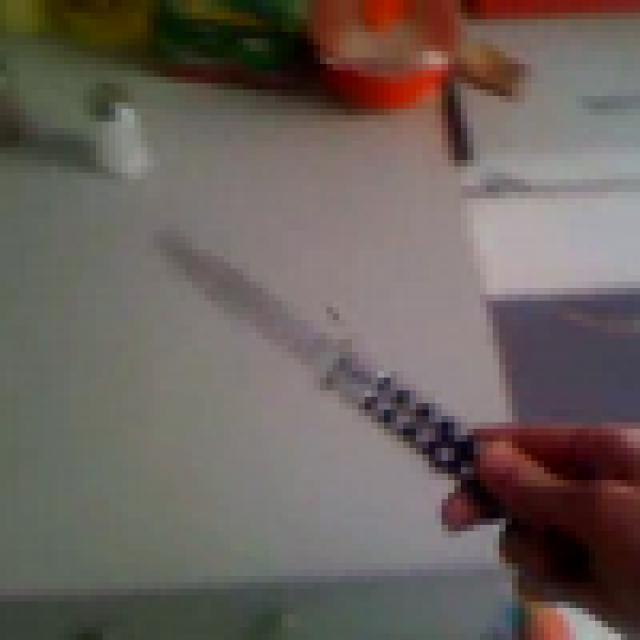Knife: (128, 205, 563, 582)
